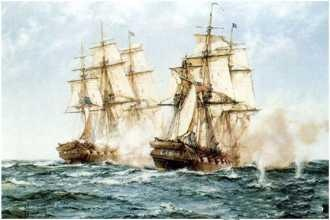fanchuan: (150, 5, 261, 168), (53, 28, 163, 162)
